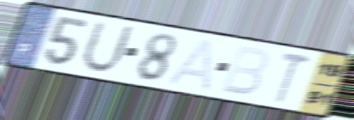5: (43, 12, 92, 68)
8: (135, 31, 179, 83)
A: (164, 37, 216, 93)
B: (217, 44, 272, 98)
T: (274, 49, 314, 106)
U: (77, 18, 138, 76)
